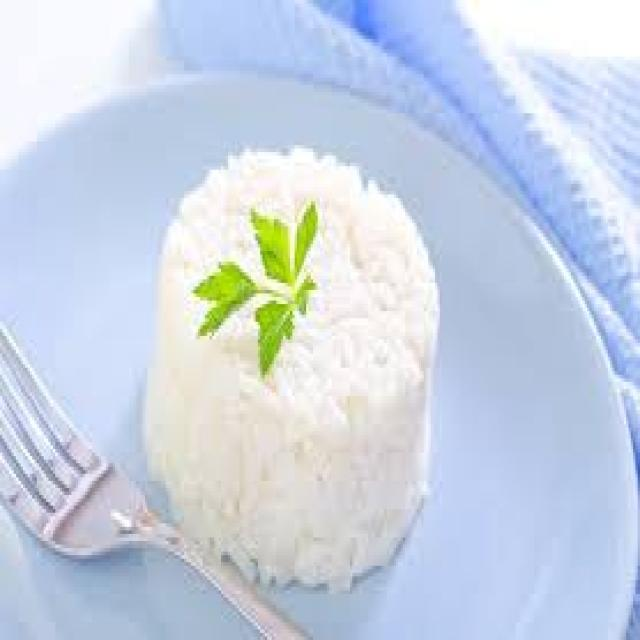nasi: (144, 143, 435, 572)
